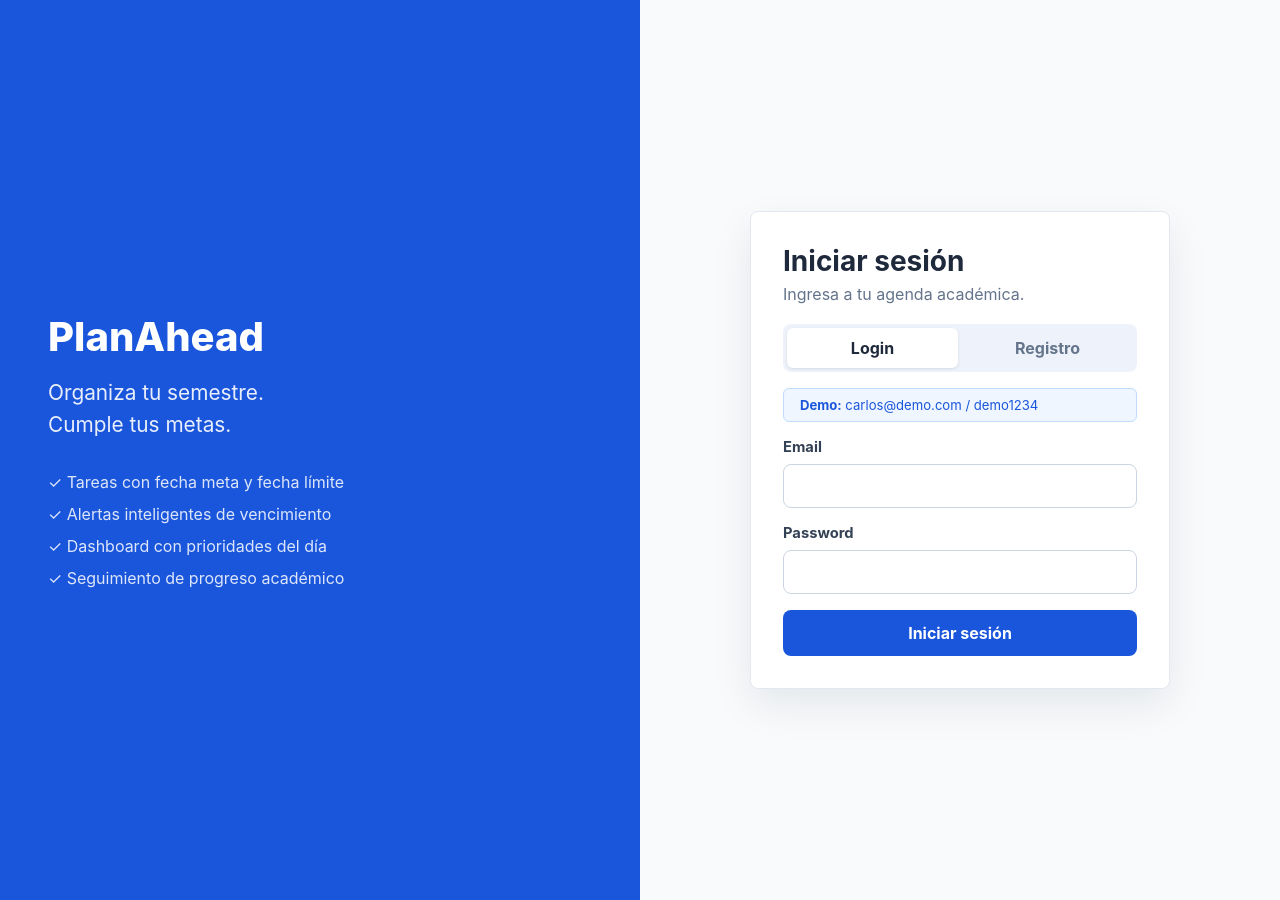
Scenario: LoginPage › botón de submit se deshabilita mientras carga
Type "ana@test.com" into the field labelled "Email" at coordinates (960, 486), box [783,464,1137,508]
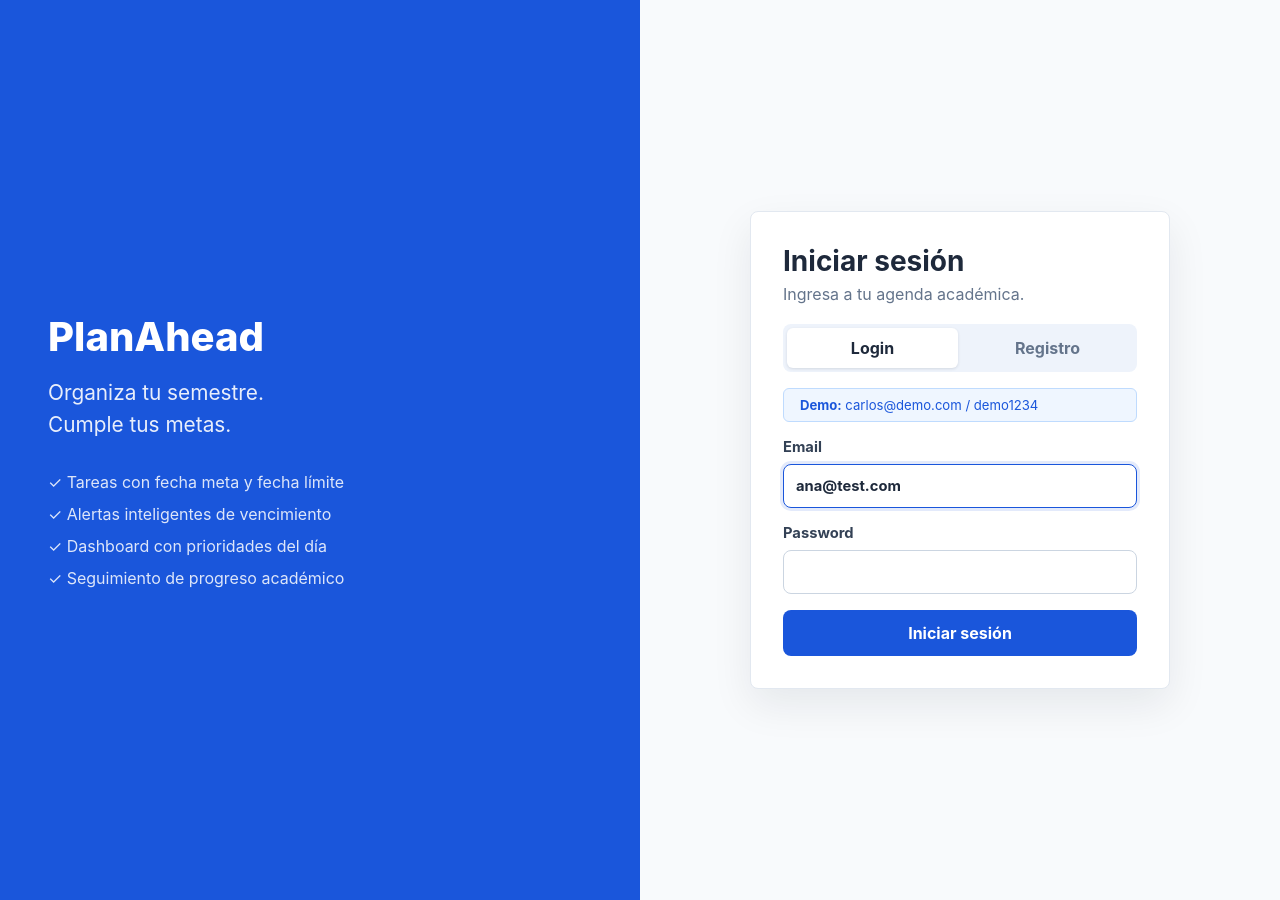
Type "123456" into the password field labelled "Password" at coordinates (960, 572), box [783,550,1137,594]
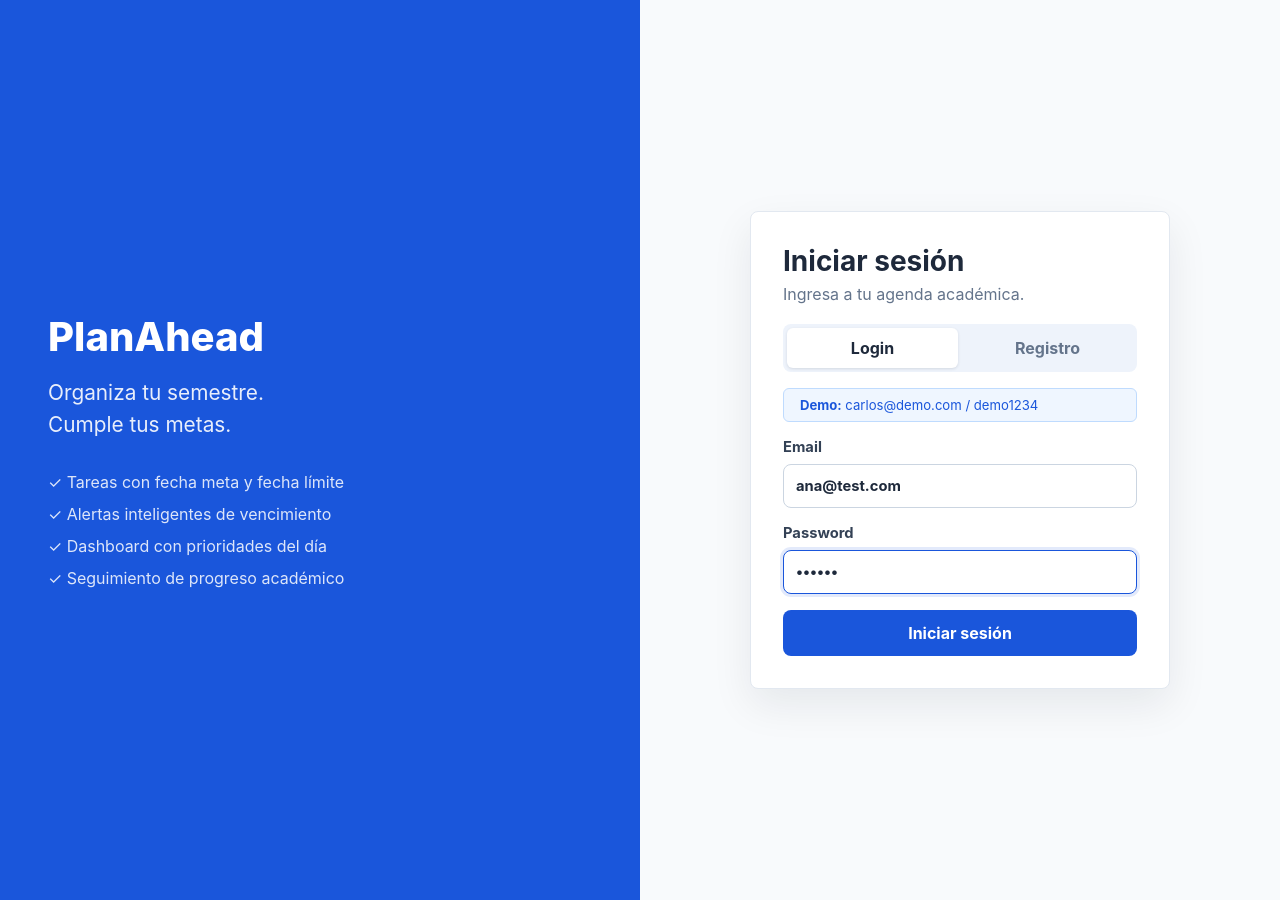
Click the button "Iniciar sesión" at coordinates (960, 633), box [783,610,1137,656]
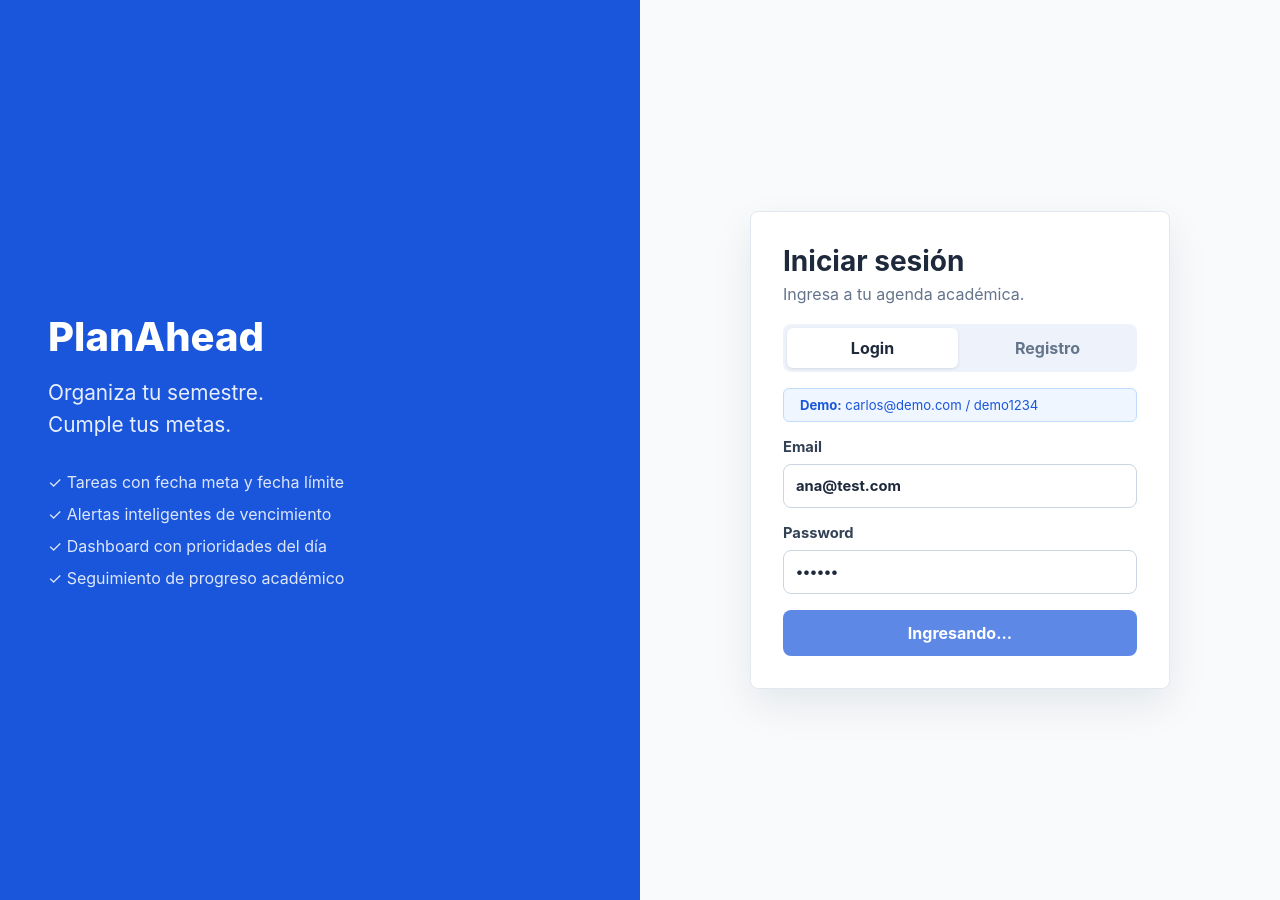
Expected: the button "Ingresando..." is disabled, [783,610,1137,656]
